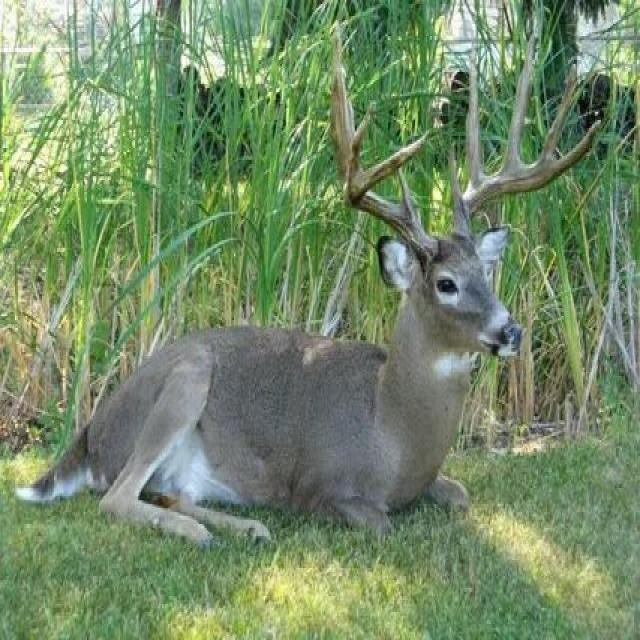deer: (70, 115, 562, 576)
